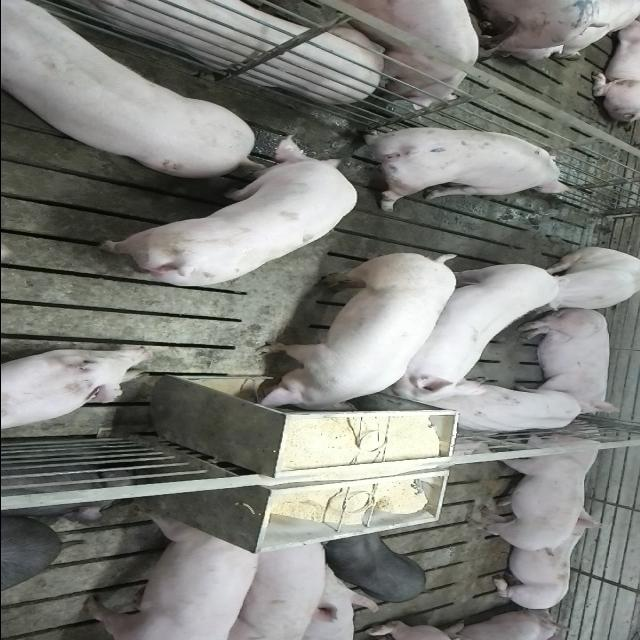Feeding: (242, 255, 462, 419)
Lateral_lying: (32, 0, 390, 101), (513, 307, 621, 416)
Sitting: (525, 247, 639, 315)
Standing: (0, 1, 256, 174), (93, 131, 356, 285), (377, 258, 563, 397), (77, 508, 260, 638), (348, 124, 574, 210), (458, 426, 593, 554), (330, 0, 478, 107), (224, 534, 328, 638)
Sternal_lying: (0, 348, 154, 436), (488, 511, 608, 610)
